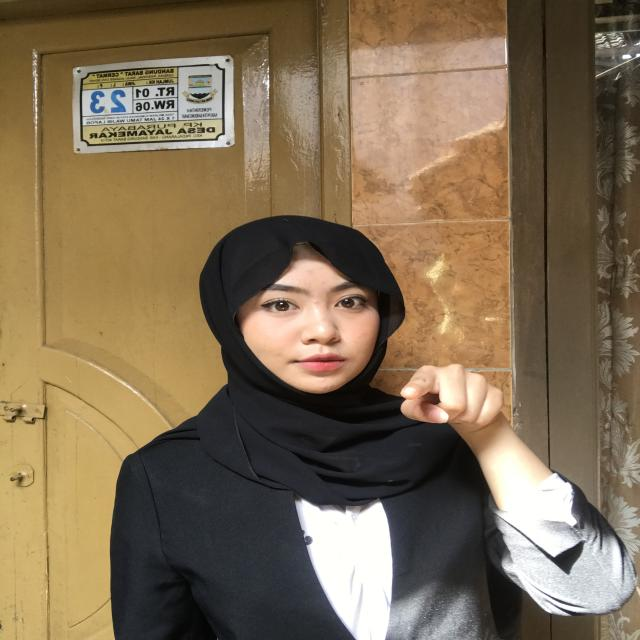kamu: (364, 336, 535, 456)
